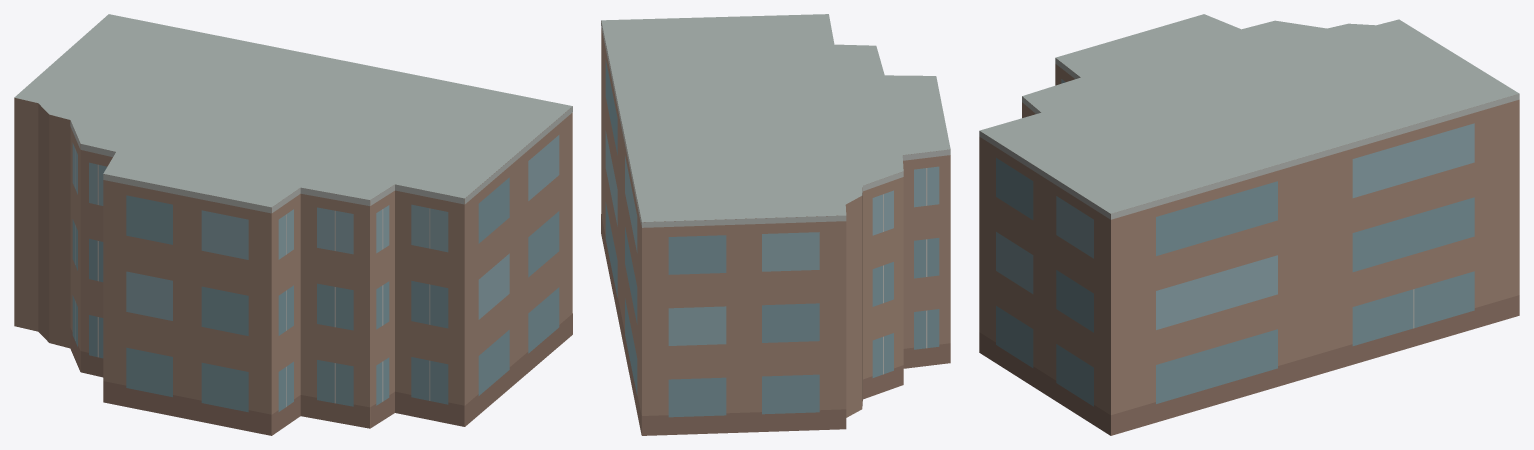
Rendered from survey-upis-32973347.glb.
3 views of the same model, side by side, from view 1: azimuth 30°, elevation 25°; view 2: azimuth 150°, elevation 25°; view 3: azimuth 270°, elevation 25° (orthographic). The views are drawn at different scales.
Visible parts, largest first — view 1: survey-upis-32973347.tmp; view 2: survey-upis-32973347.tmp; view 3: survey-upis-32973347.tmp.
Boxes of the visible parts, x1,y1,x2,y2 form: survey-upis-32973347.tmp: [14, 14, 572, 435]; survey-upis-32973347.tmp: [601, 14, 950, 435]; survey-upis-32973347.tmp: [979, 14, 1519, 435].
Size of the model in its own units: 17.68 by 9.15 by 20.19.
